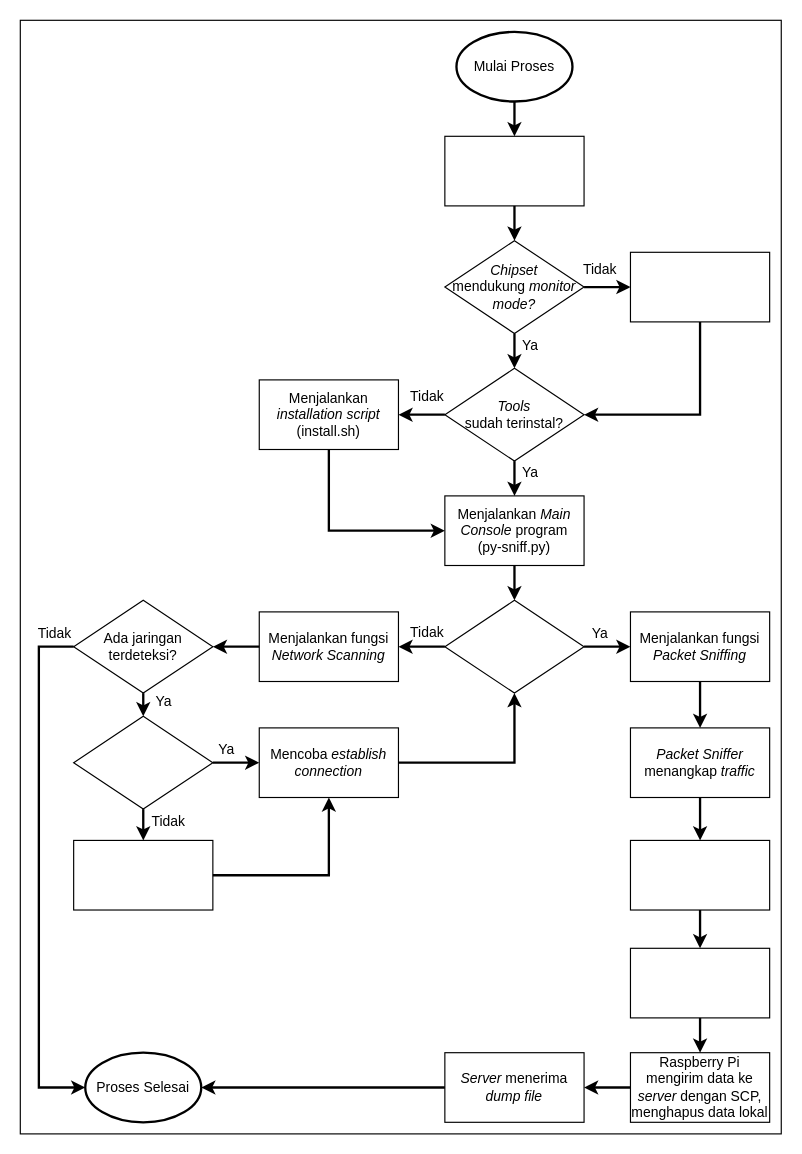
Some shapes in this 802 by 1154 pixel diagram are drawn without their labels. Here are the shapes that lost their labels. From the top down, the box of each, then its label:
(444, 135, 584, 206): Menyalakan Raspberry Pi
(629, 251, 770, 322): Menjalankan firmware patching script (patch.sh)
(444, 599, 584, 693): Sudah terhubung ke jaringan?
(72, 715, 213, 809): Termasuk known network ?
(72, 839, 213, 910): Membuat network profile baru, dengan input SSID dan Password
(629, 839, 770, 910): Hasil packet capture di- dump ke dalam format txt
(629, 947, 770, 1018): Timely trigger dari cron job untuk pengiriman log files
